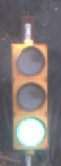Green: (7, 22, 52, 159)
